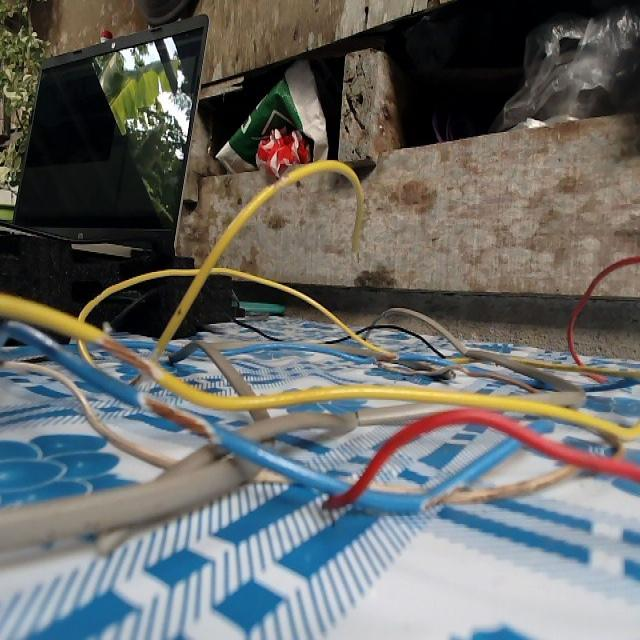-: (133, 385, 224, 447), (98, 330, 168, 390), (420, 478, 467, 514), (373, 342, 399, 369)
